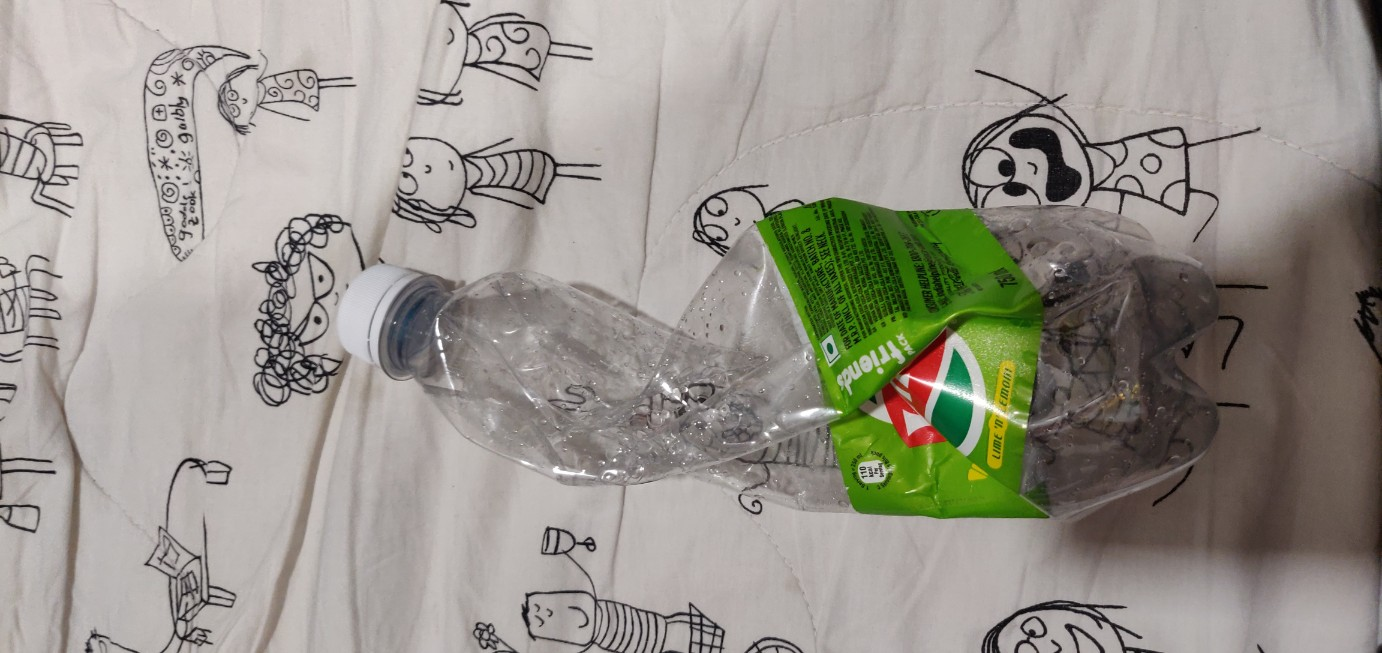Electronics: (305, 172, 1262, 560)
